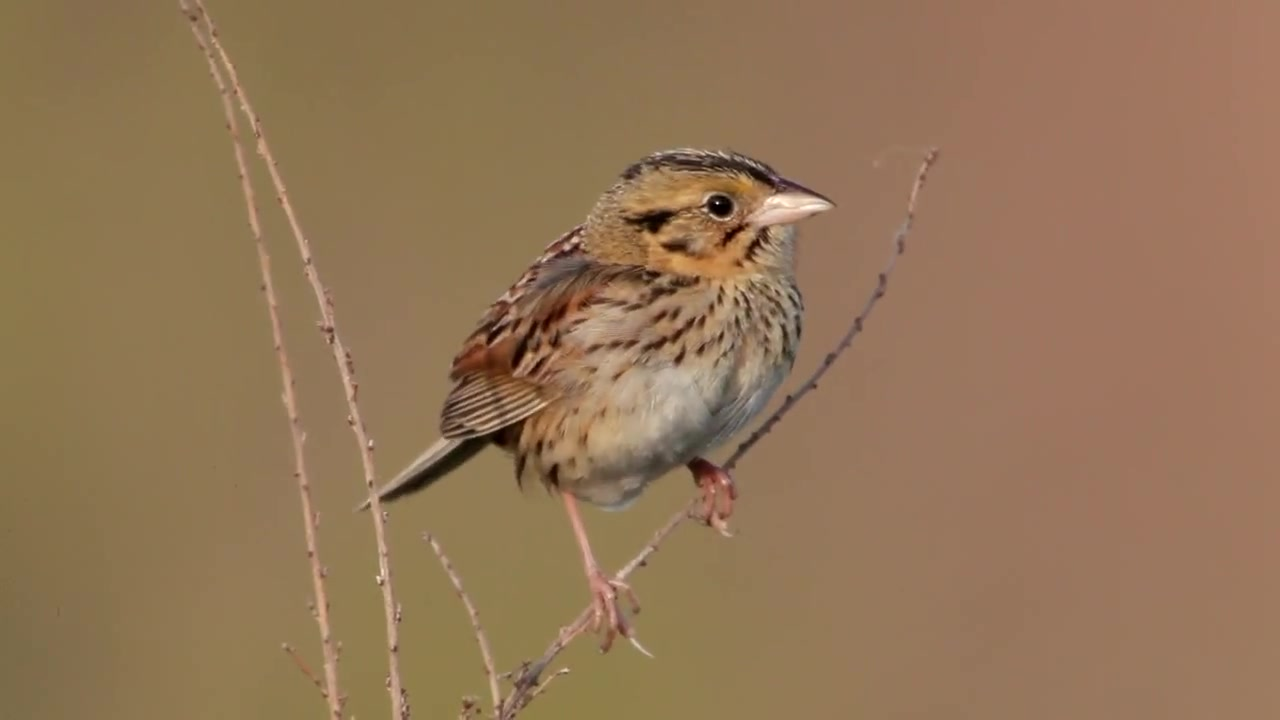bird: (354, 148, 839, 660)
